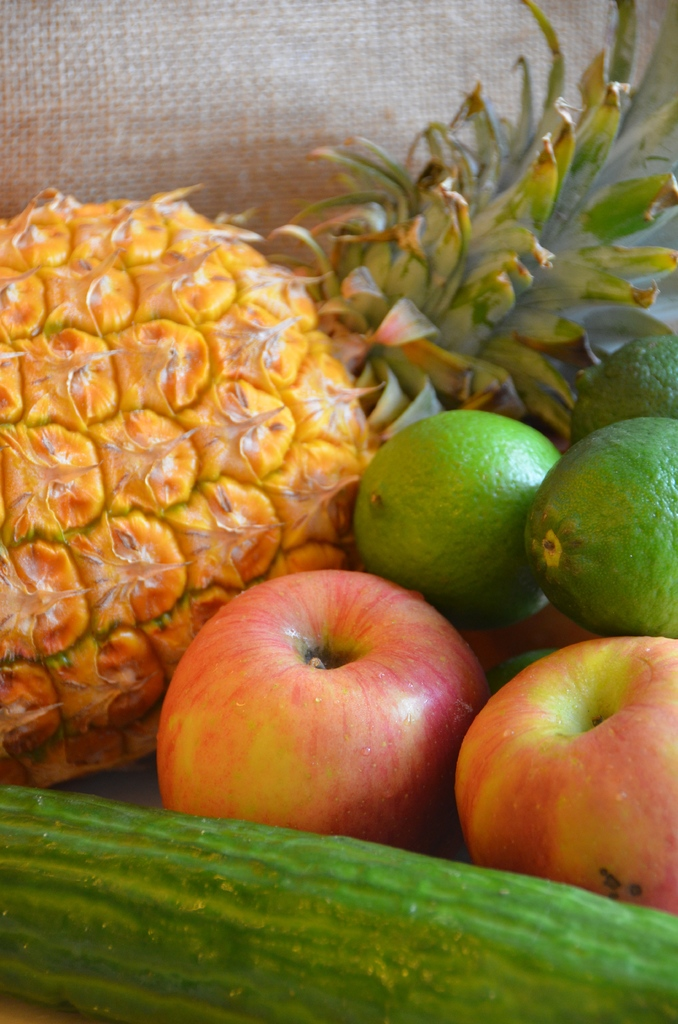Apple: (157, 578, 489, 851), (452, 638, 677, 919)
